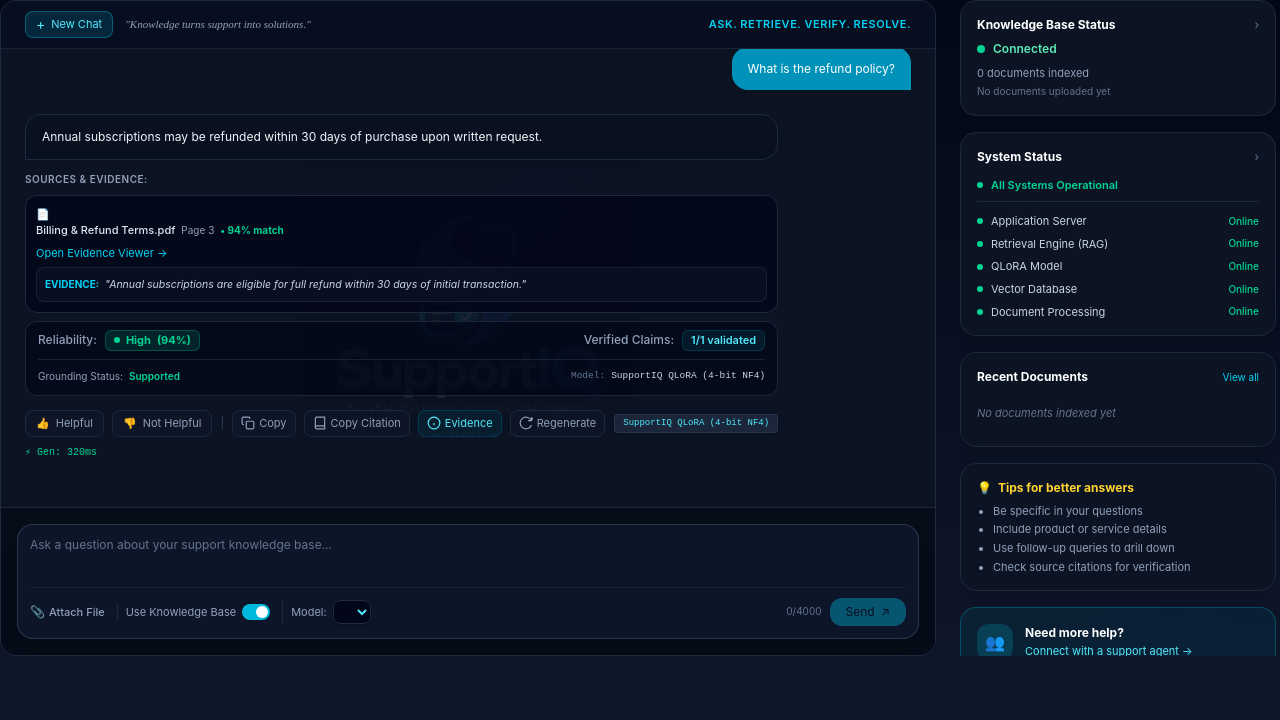
Chat Answer Feedback & Action Controls › copies citation and evidence passage when Copy Citation button is clicked
(page scrolled)
Expected: the text "Annual subscriptions may be refunded" is shown, left=42, top=129, right=542, bottom=144
Click the button with aria-label "Copy citation to clipboard". click: (357, 423)
box: left=304, top=410, right=410, bottom=436
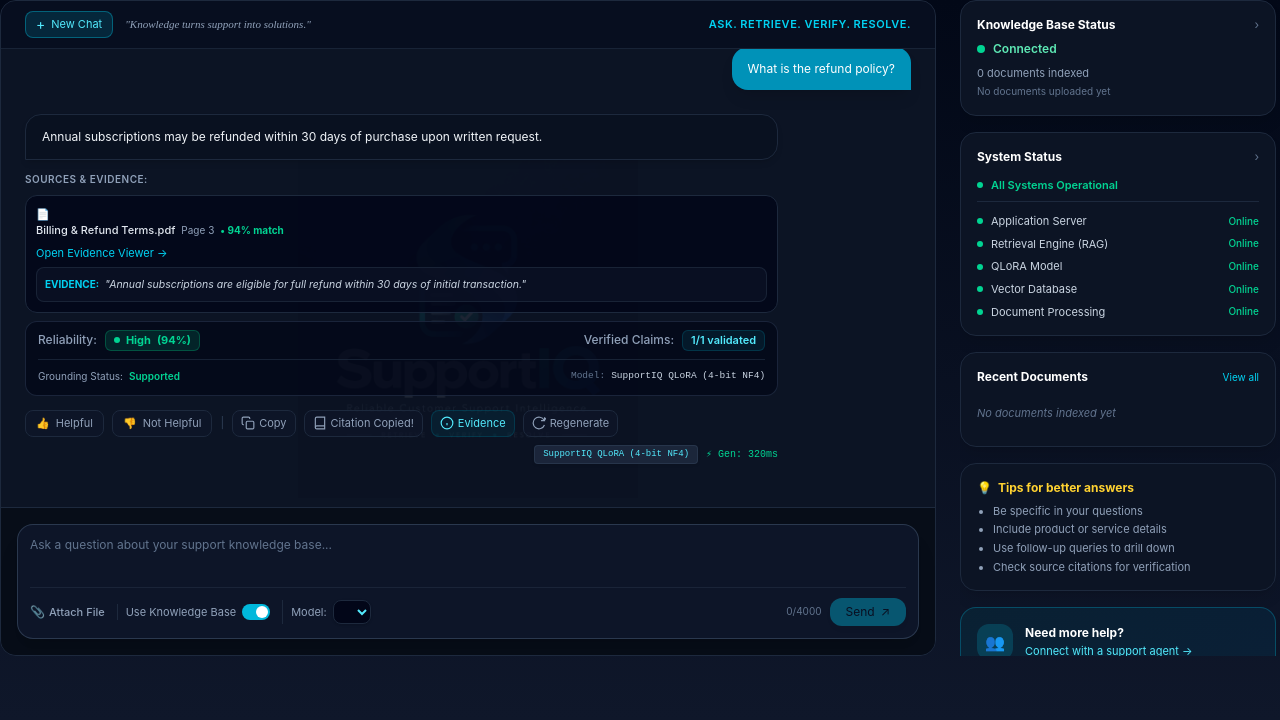
Now the text "Citation Copied!" is shown, box left=330, top=415, right=414, bottom=432
